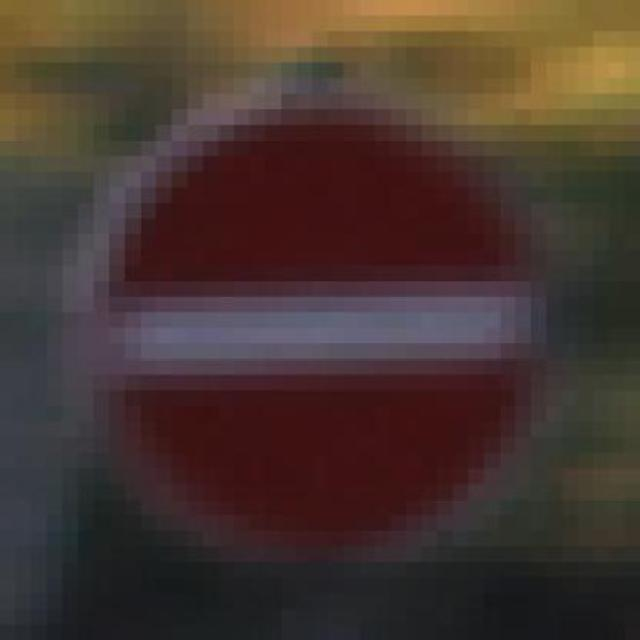No Entry: (47, 47, 562, 578)
